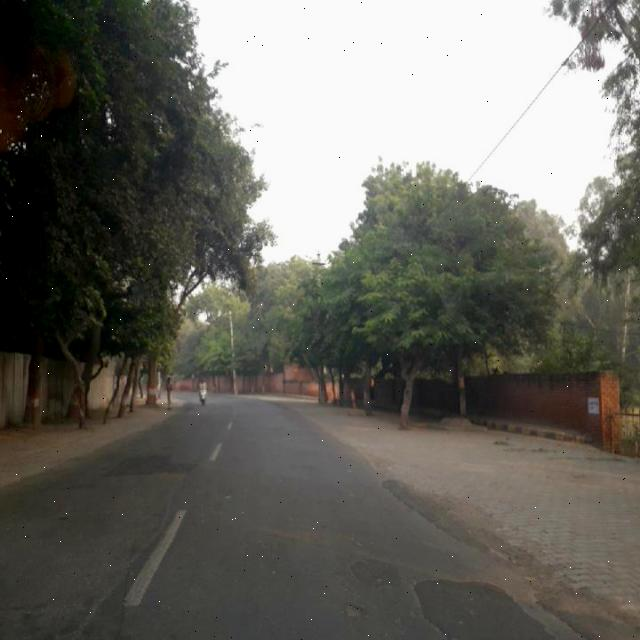D40: (338, 594, 372, 618)
